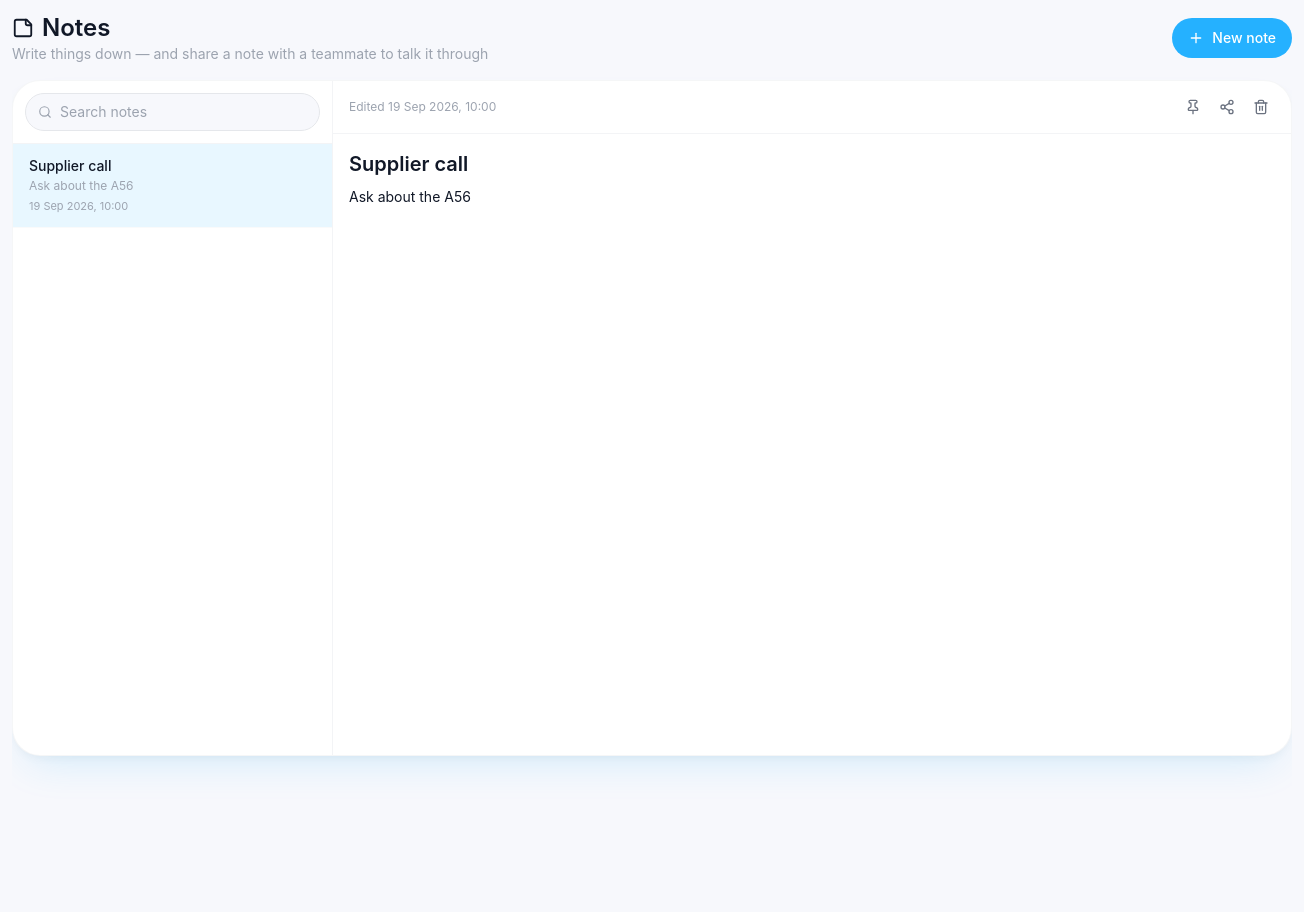
Scenario: NotesPage › writing › pins a note
The width and height of the screenshot is (1304, 912).
Click the button named "Pin note" at (1193, 107), box [1179,93,1207,121]
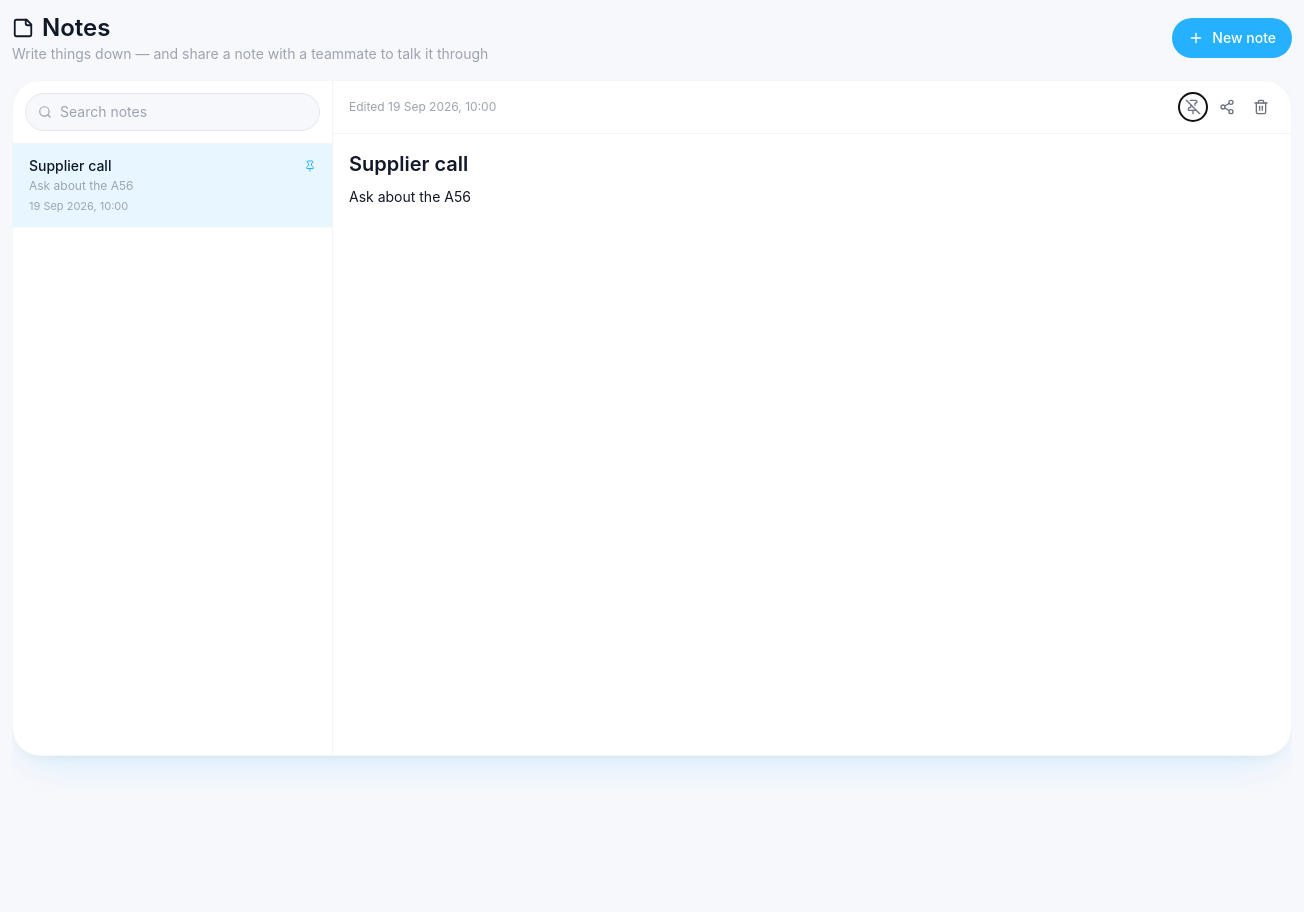
Expected: the button named "Unpin note" is shown, [1179,93,1207,121]
